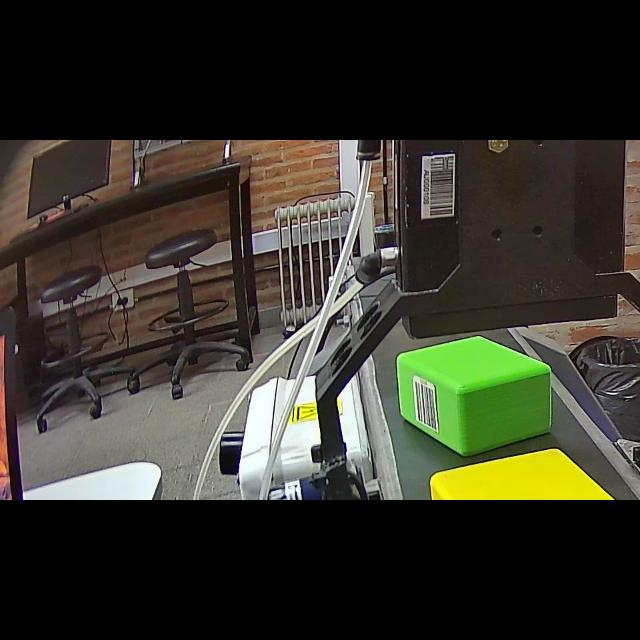greenBox: (396, 328, 558, 459)
yellowBox: (422, 440, 640, 500)
